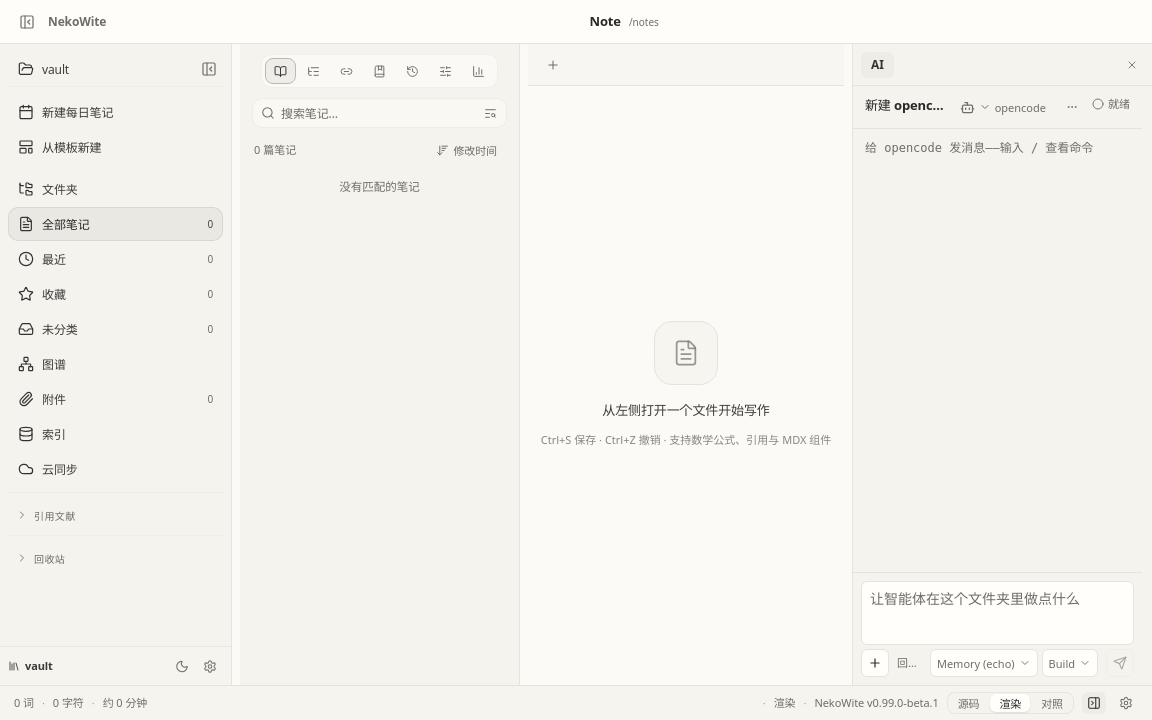
Test case: the transcript’s own find bar, reached from the window › finds a word of the engine’s own answer, from the control in the transcript
In the text box with class "agent-composer-field": (998, 613) [861,581,1134,645], type "Where is the plan?"
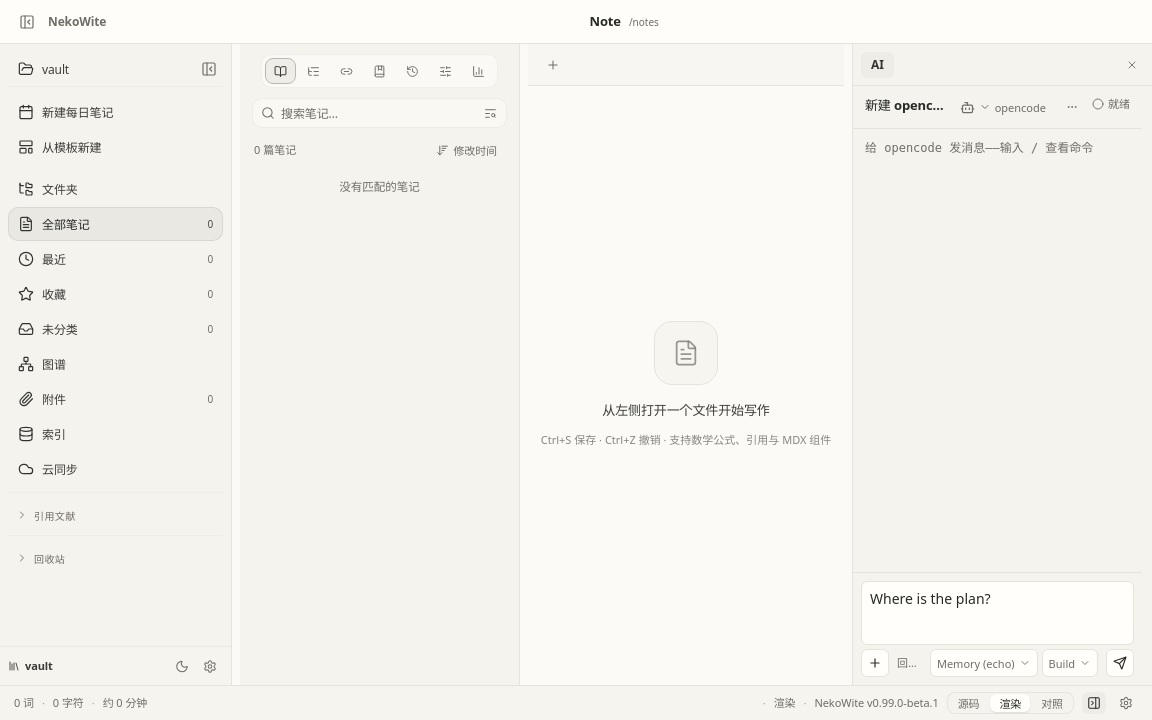
Click the button named "发送": (1120, 663) [1106,649,1134,677]
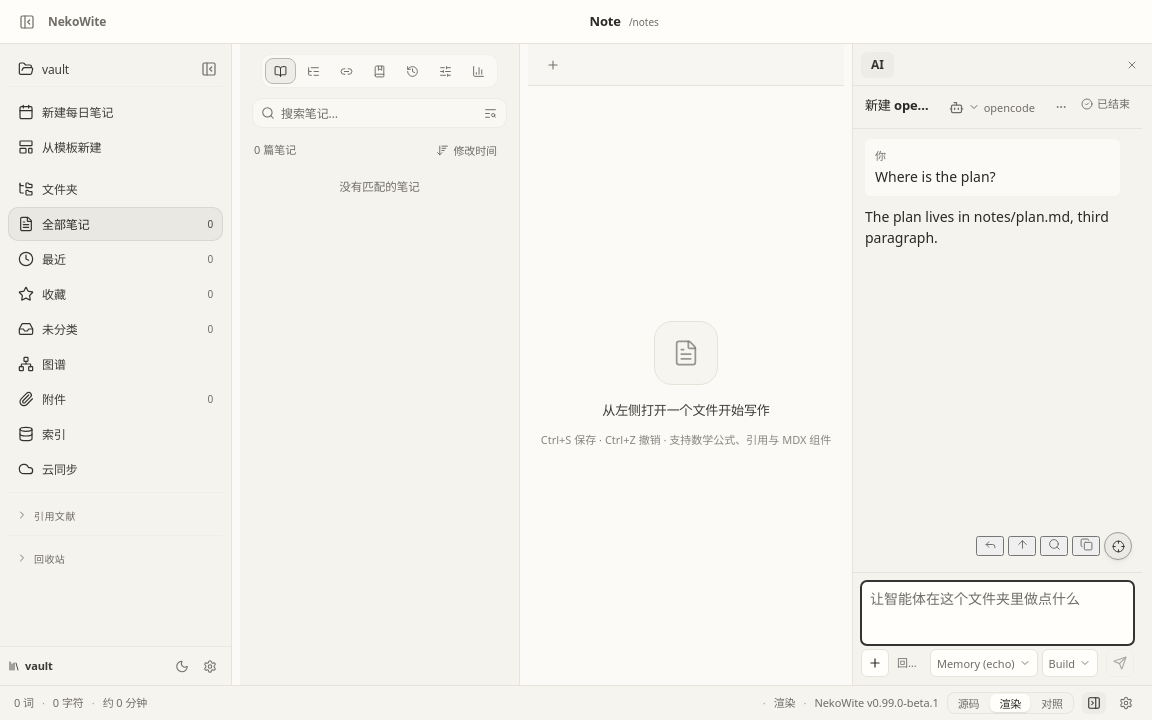
Click the button named "在这段对话中查找": (1054, 546) [1040,536,1068,556]
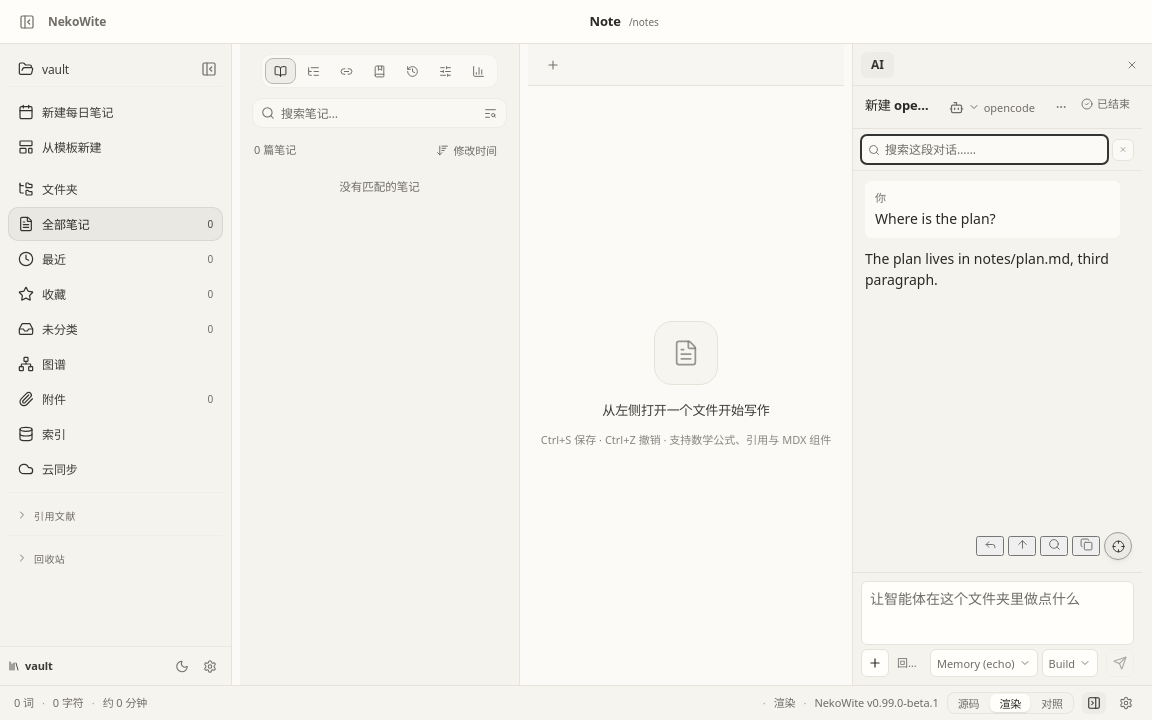
In the field with placeholder "搜索这段对话……": (993, 150) [885,136,1101,163], type "third paragraph"
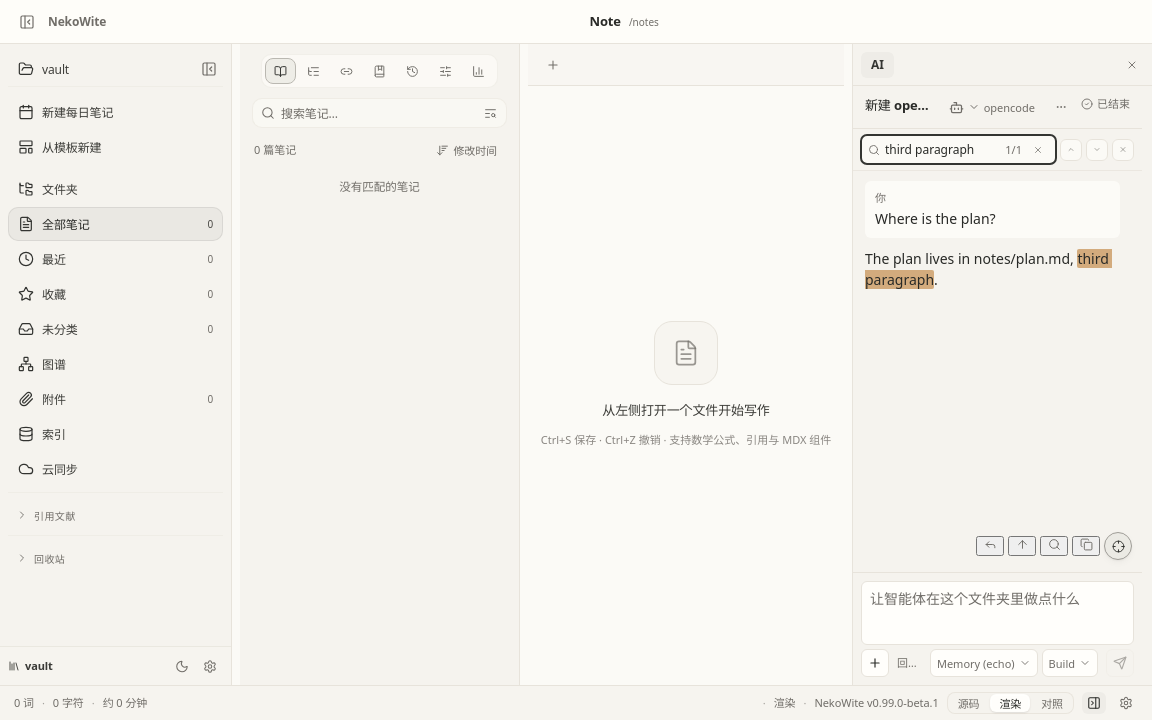
Check: the text "1/1" is shown, box [1005,140,1022,159]
Replace the text in the field named "搜索这段对话" with "nothing here says this": (943, 150) [885,136,1000,163]
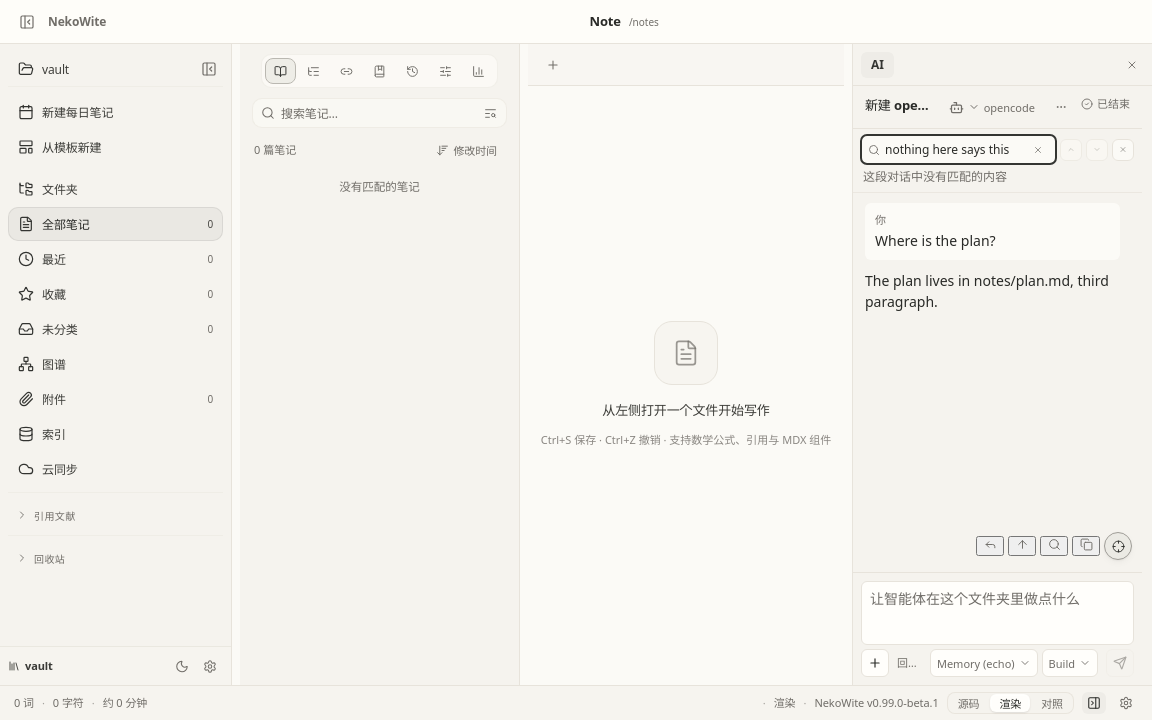
Check: the text "这段对话中没有匹配的内容" is shown, box [863,168,1007,185]
